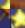grenade: (0, 0, 10, 9)
star: (10, 9, 25, 28)
